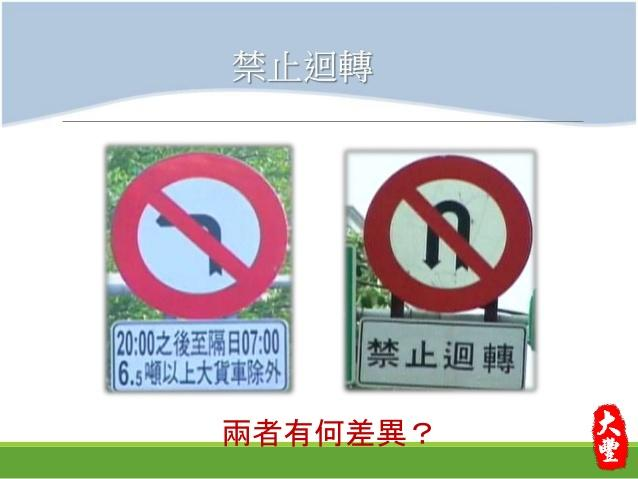no_left_turn: (110, 152, 287, 320)
no_u_turn: (361, 153, 531, 312)
